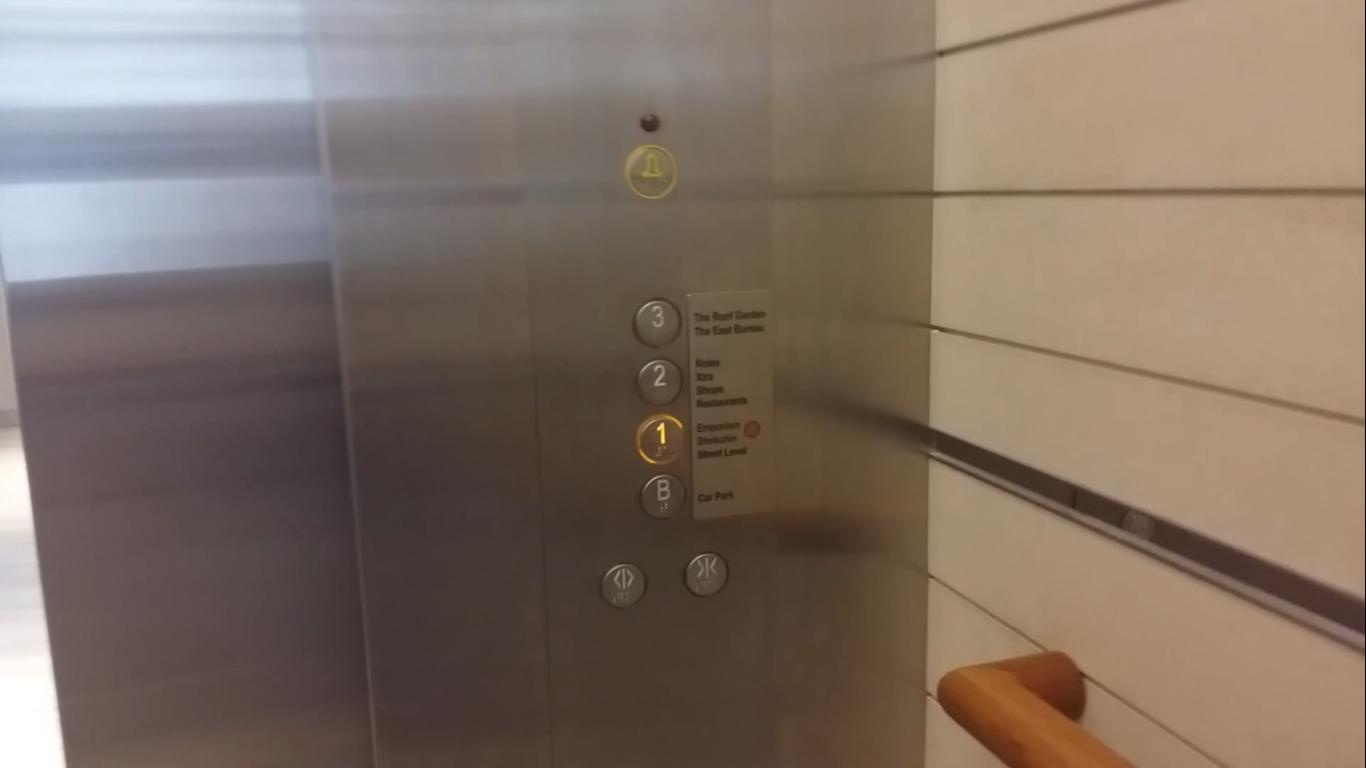1: (633, 412, 688, 468)
2: (635, 356, 684, 406)
3: (630, 296, 683, 350)
B: (636, 471, 688, 520)
alarm: (623, 143, 678, 203)
close: (681, 550, 729, 600)
open: (597, 561, 647, 610)
